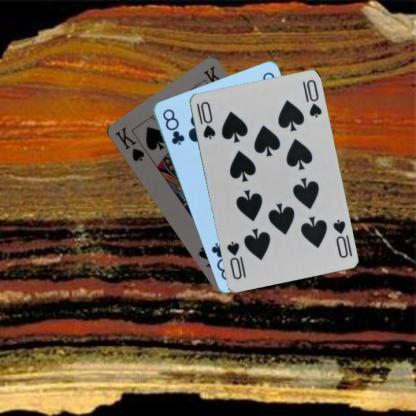10s: (194, 98, 216, 140), (330, 216, 349, 260)
8c: (160, 106, 186, 147)
Ks: (112, 124, 146, 163)
